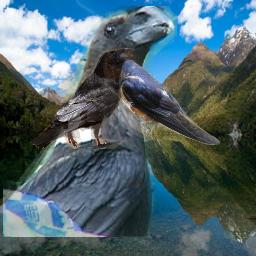Crow: (3, 6, 177, 237), (30, 48, 135, 149)
Swallow: (95, 50, 220, 145)
